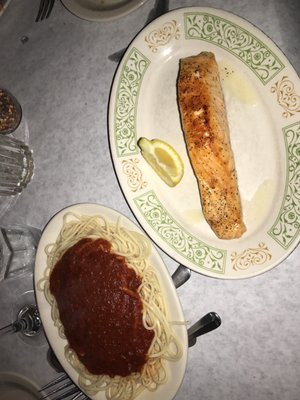burger: (0, 370, 86, 400)
